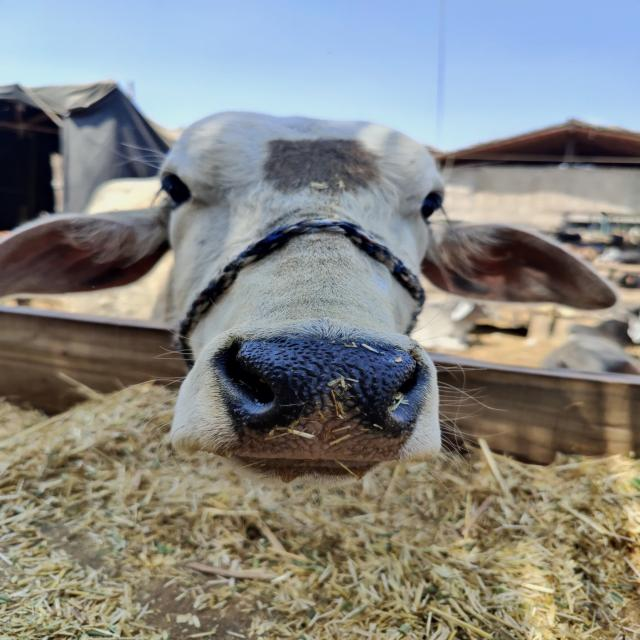muzzles: (204, 322, 441, 469)
